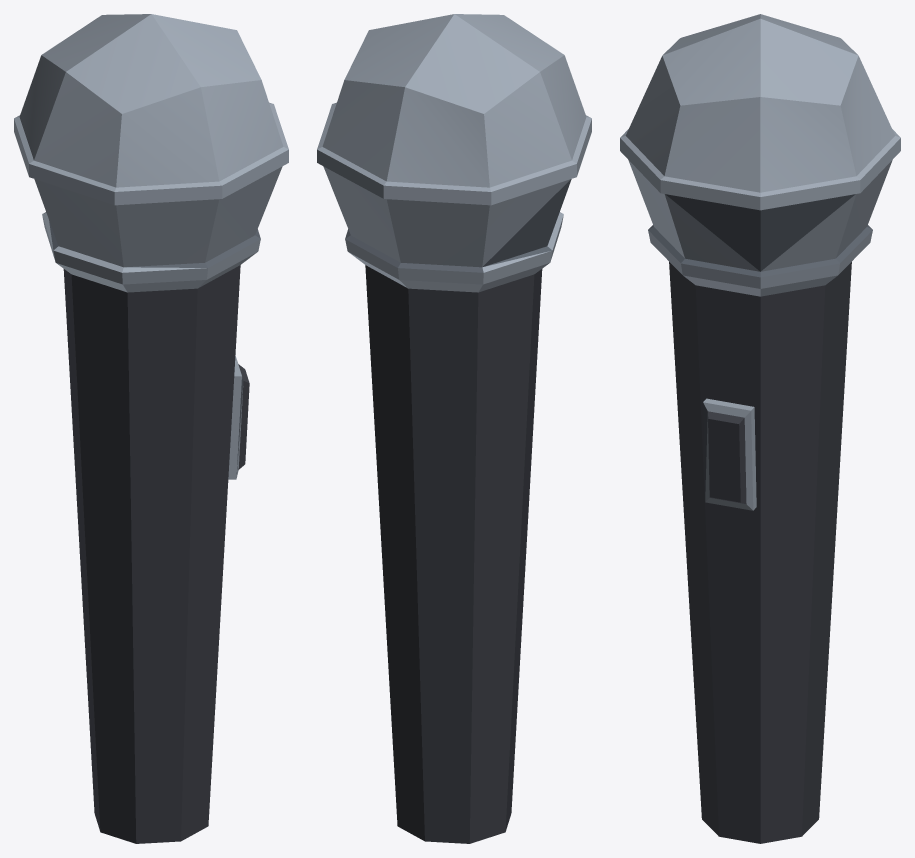
File: microphone.dae
3 renders of one model, left to right at view 1: azimuth 30°, elevation 25°; view 2: azimuth 150°, elevation 25°; view 3: azimuth 270°, elevation 25°, orthographic.
Parts seen in each view (by area): view 1: microphone; view 2: microphone; view 3: microphone.
Boxes of the visible parts, box(x1,y1,x2,y2) form: microphone: box(14, 14, 288, 843); microphone: box(317, 14, 591, 843); microphone: box(620, 14, 900, 843).
Size of the model in its own units: 0.0604 by 0.0604 by 0.19.
